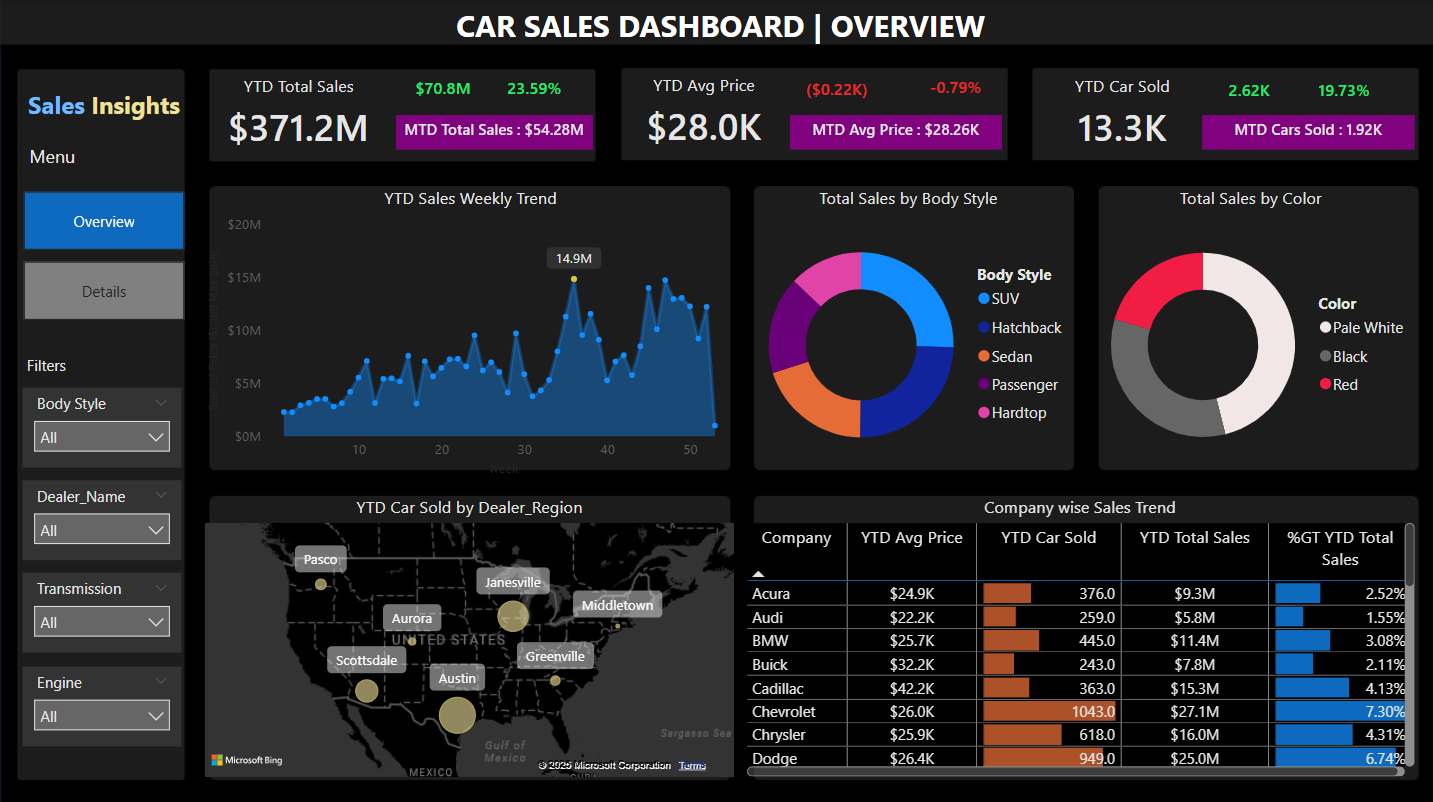

The dashboard page shown, as its layout file describes it:
{"tool":"powerbi","page":{"name":"Overview","canvas":[1280,720],"ordinal":0},"visuals":[{"type":"card","title":"YTD Total Sales","fields":{"Values":["car_data.YTD Total Sales"]},"box":[178.8,66.2,173.8,75],"z":0},{"type":"card","fields":{"Values":["car_data.Sales Difference"]},"box":[353,66,84,31],"z":1000},{"type":"card","fields":{"Values":["car_data.YoY Sales Growth"]},"box":[434,66,84,31],"z":2000},{"type":"card","fields":{"Values":["car_data.MTD KPI"]},"box":[352.5,103.8,175,30],"z":3000},{"type":"card","title":"YTD Avg Price","fields":{"Values":["car_data.YTD Avg Price"]},"box":[540,65.7,174.3,75.7],"z":4000},{"type":"card","fields":{"Values":["car_data.Avg Price Difference"]},"box":[703.8,66.2,83.8,31.2],"z":5000},{"type":"card","fields":{"Values":["car_data.YoY Avg Price Growth"]},"box":[808.8,65,83.8,31.2],"z":6000},{"type":"card","fields":{"Values":["car_data.MTD Avg Price KPI"]},"box":[703.8,103.8,188.8,30],"z":7000},{"type":"card","title":"YTD Car Sold","fields":{"Values":["car_data.YTD Car Sold"]},"box":[912.5,66.2,173.8,75],"z":8000},{"type":"card","fields":{"Values":["car_data.Car Sold Difference"]},"box":[1071.2,67.5,83.8,31.2],"z":9000},{"type":"card","fields":{"Values":["car_data.YoY Car Sold Growth"]},"box":[1155,67.5,83.8,31.2],"z":10000},{"type":"card","fields":{"Values":["car_data.MTD Car Sold KPI"]},"box":[1071.2,103.8,188.8,30],"z":11000},{"type":"areaChart","title":"YTD Sales Weekly Trend","fields":{"Category":["Calender Table.Week"],"Y":["Sum(car_data.Price ($))","car_data.Max point"]},"box":[178.8,167.5,480,262.5],"z":12000},{"type":"donutChart","fields":{"Category":["car_data.Body Style"],"Y":["car_data.Total Sales"]},"box":[658.8,167.5,300,262.5],"z":13000},{"type":"donutChart","fields":{"Y":["car_data.Total Sales"],"Category":["car_data.Color"]},"box":[963.8,167.5,300,262.5],"z":14000},{"type":"map","fields":{"Category":["car_data.Dealer_Region"],"Size":["car_data.YTD Car Sold"]},"box":[178.6,441.4,480,255.7],"z":15000},{"type":"tableEx","title":"Company wise Sales Trend","fields":{"Values":["car_data.Company","car_data.YTD Avg Price","car_data.YTD Car Sold","car_data.YTD Total Sales","Divide(car_data.YTD Total Sales, ScopedEval(car_data.YTD Total Sales, []))"]},"box":[658.6,441.4,605.7,255.7],"z":16000},{"type":"textbox","box":[20,0,1243.3,66.7],"z":17000},{"type":"slicer","fields":{"Values":["car_data.Body Style"]},"box":[20,345.7,141.4,71.4],"z":18000},{"type":"slicer","fields":{"Values":["car_data.Dealer_Name"]},"box":[20,428.6,141.4,71.4],"z":19000},{"type":"slicer","fields":{"Values":["car_data.Transmission"]},"box":[20,511.4,141.4,71.4],"z":20000},{"type":"slicer","fields":{"Values":["car_data.Engine"]},"box":[20,594.3,141.4,71.4],"z":21000},{"type":"textbox","box":[18.6,311.4,72.9,34.3],"z":22000},{"type":"textbox","box":[20,75,158.3,48.3],"z":23000},{"type":"textbox","box":[21.7,123.3,70,48.3],"z":24000},{"type":"pageNavigator","box":[21.7,171.7,143.3,115],"z":25000}]}

Visuals, with their boxes in screenshot pixels (x1, y1, x2, y2), scaled from the page's 1280x720 canvas onto the 1433x802 screenshot:
"YTD Total Sales" card: 200:74:395:157
card - car_data.Sales Difference: 395:74:489:108
card - car_data.YoY Sales Growth: 486:74:580:108
card - car_data.MTD KPI: 395:116:591:149
"YTD Avg Price" card: 605:73:800:158
card - car_data.Avg Price Difference: 788:74:882:108
card - car_data.YoY Avg Price Growth: 905:72:999:107
card - car_data.MTD Avg Price KPI: 788:116:999:149
"YTD Car Sold" card: 1022:74:1216:157
card - car_data.Car Sold Difference: 1199:75:1293:110
card - car_data.YoY Car Sold Growth: 1293:75:1387:110
card - car_data.MTD Car Sold KPI: 1199:116:1411:149
"YTD Sales Weekly Trend" areaChart: 200:187:738:479
donutChart - car_data.Body Style x car_data.Total Sales: 738:187:1073:479
donutChart - car_data.Total Sales x car_data.Color: 1079:187:1415:479
map - car_data.Dealer_Region x car_data.YTD Car Sold: 200:492:737:776
"Company wise Sales Trend" tableEx: 737:492:1415:776
textbox: 22:0:1414:74
slicer - car_data.Body Style: 22:385:181:465
slicer - car_data.Dealer_Name: 22:477:181:557
slicer - car_data.Transmission: 22:570:181:649
slicer - car_data.Engine: 22:662:181:742
textbox: 21:347:102:385
textbox: 22:84:200:137
textbox: 24:137:103:191
pageNavigator: 24:191:185:319
